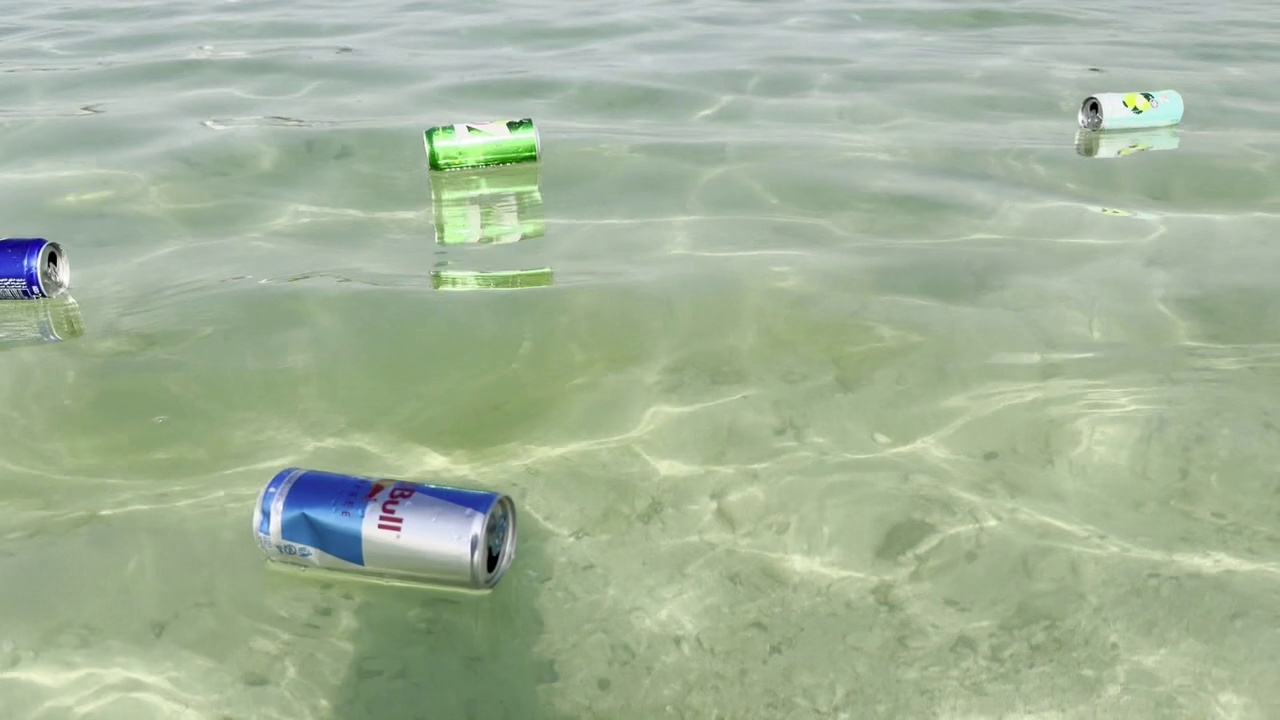debris: (242, 452, 527, 600), (412, 114, 544, 180), (1068, 87, 1184, 144), (0, 234, 73, 303)
